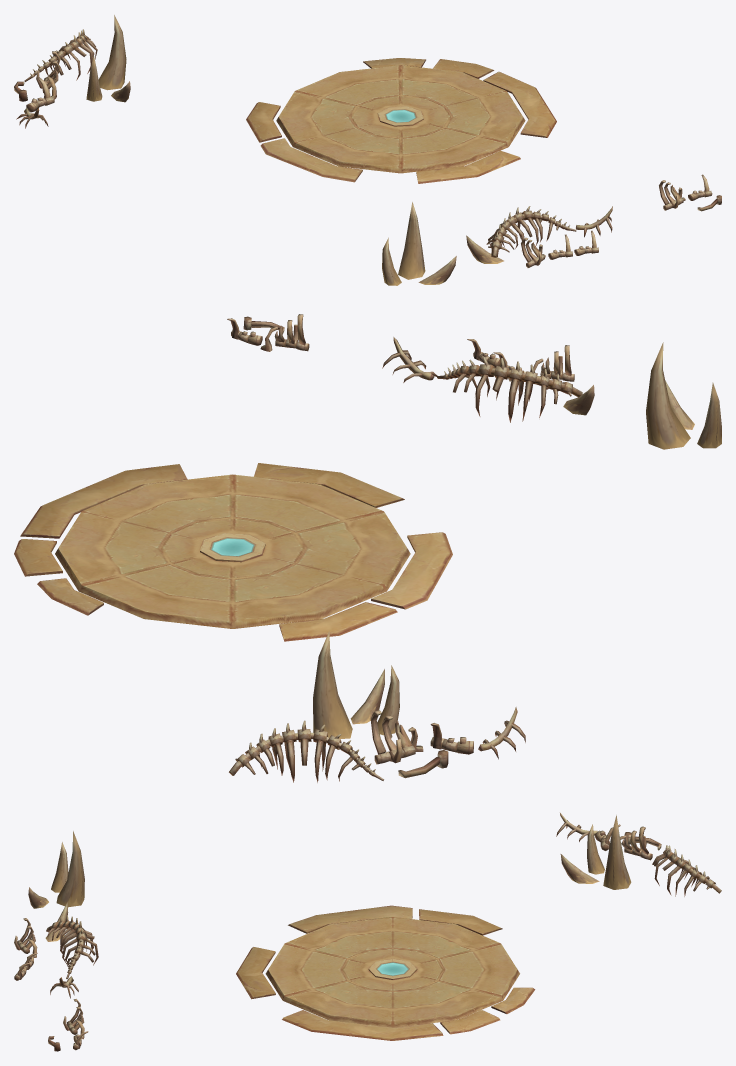
The model's file is boss1_y.FBX.
The picture shows the model from 3 angles, top to bottom: view 1: azimuth 30°, elevation 25°; view 2: azimuth 150°, elevation 25°; view 3: azimuth 270°, elevation 25°; orthographic projection. The views are drawn at different scales.
Parts seen in each view (by area): view 1: boss1_y; view 2: boss1_y; view 3: boss1_y.
Part boxes in pixels (x1=…): boss1_y: x1=14, y1=15, x2=721, y2=285; boss1_y: x1=14, y1=314, x2=721, y2=782; boss1_y: x1=14, y1=813, x2=721, y2=1051.
Size of the model in its own units: 4014 by 691 by 5393.
Materials: 1 (1 with a texture image).
